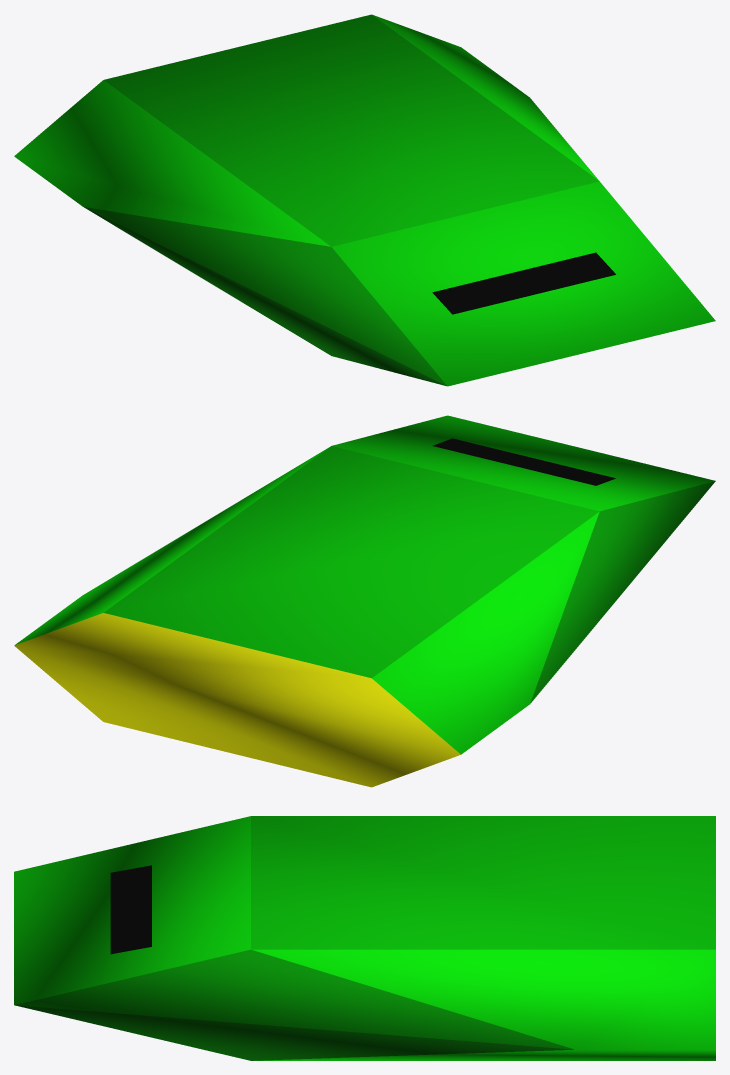
File: adder.fbx
The picture shows the model from 3 angles, top to bottom: view 1: azimuth 30°, elevation 25°; view 2: azimuth 150°, elevation 25°; view 3: azimuth 270°, elevation 25°; orthographic projection.
Parts seen in each view (by area): view 1: adder; view 2: adder; view 3: adder.
Part boxes in pixels (left/top/right/bottom): adder: left=14, top=14, right=715, bottom=386; adder: left=14, top=415, right=715, bottom=787; adder: left=14, top=816, right=715, bottom=1060.
Size of the model in its own units: 1.01 by 0.2352 by 1.34.
